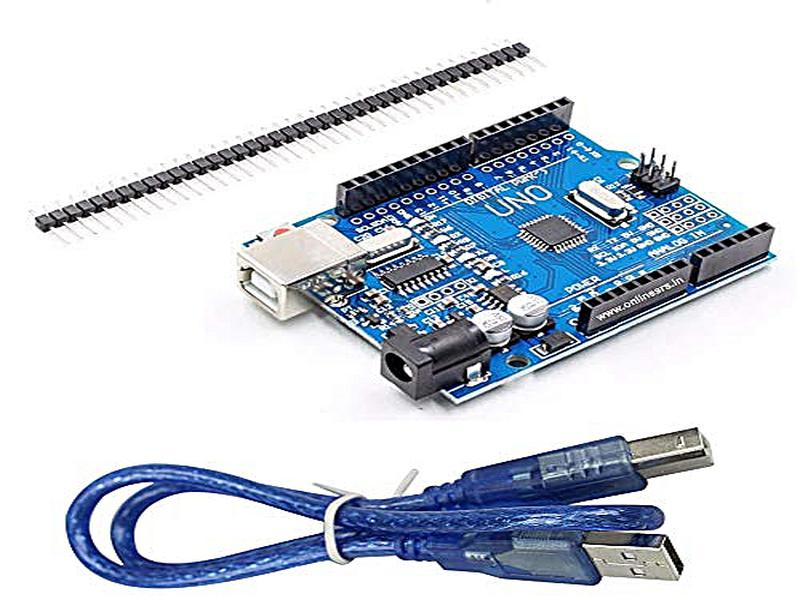Arduino UNO SMD: (238, 89, 778, 403)
